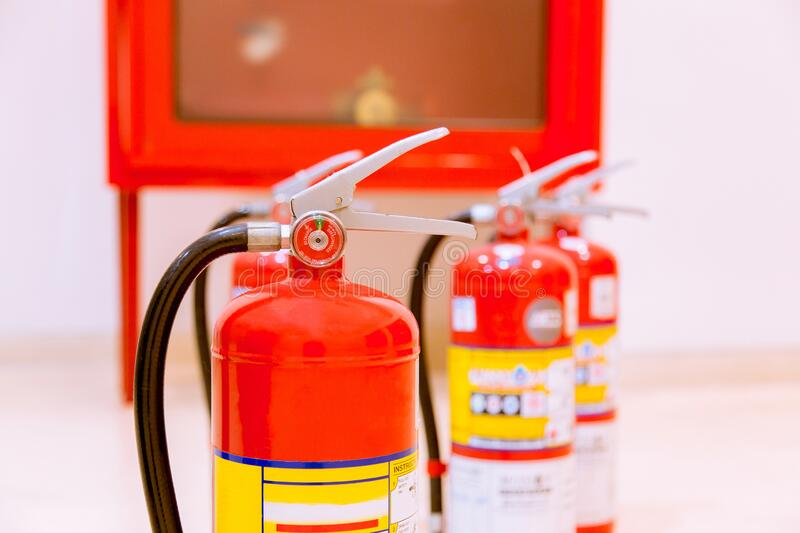fire_extinguisher: (132, 126, 478, 532), (410, 146, 648, 532)
